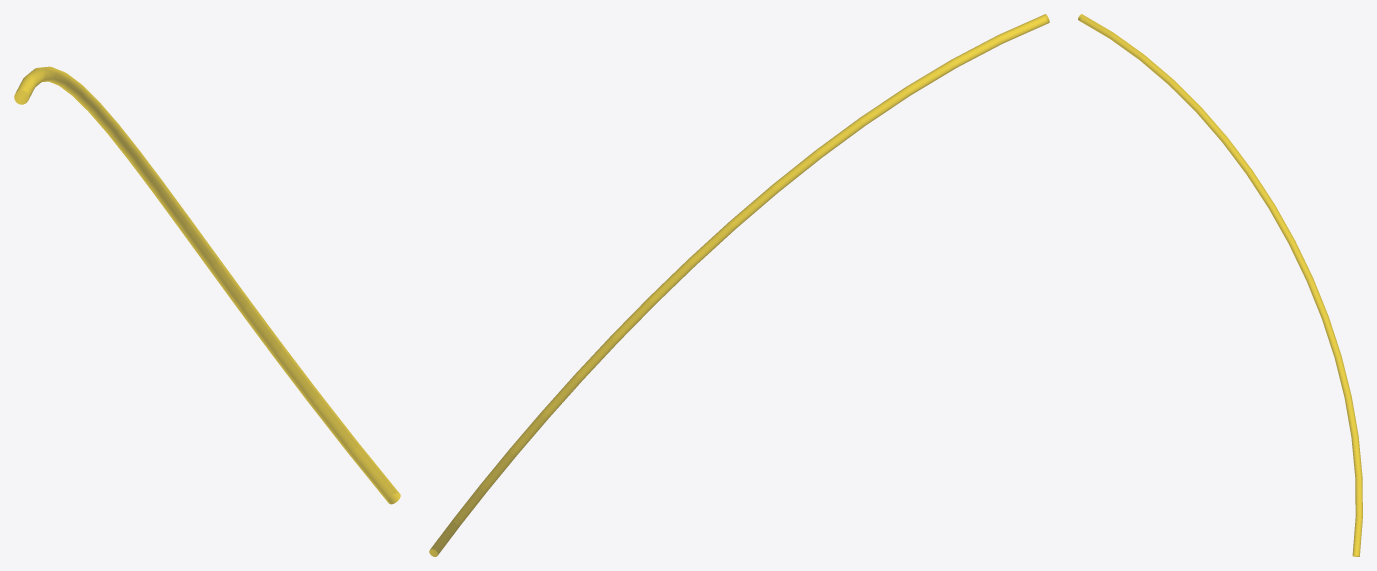
Rendered from Event_40932208_track_8.fbx.
3 renders of one model, left to right at view 1: azimuth 30°, elevation 25°; view 2: azimuth 150°, elevation 25°; view 3: azimuth 270°, elevation 25°, orthographic. The views are drawn at different scales.
Visible parts, largest first — view 1: Model; view 2: Model; view 3: Model.
Part boxes in pixels (x1,y1,x2,y2): Model: (14, 66, 400, 504); Model: (429, 14, 1049, 556); Model: (1078, 14, 1362, 556).
Bounding box in the file's own units: 2.06 × 2.3 × 1.54.
